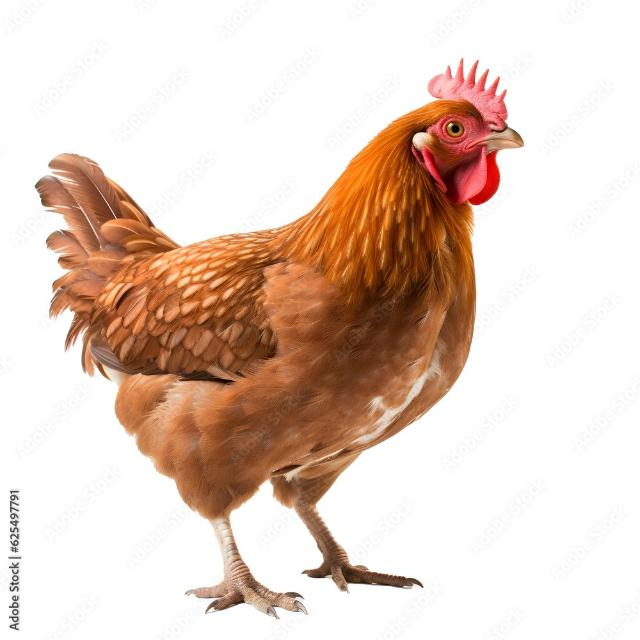Chicken: (36, 55, 526, 619)
